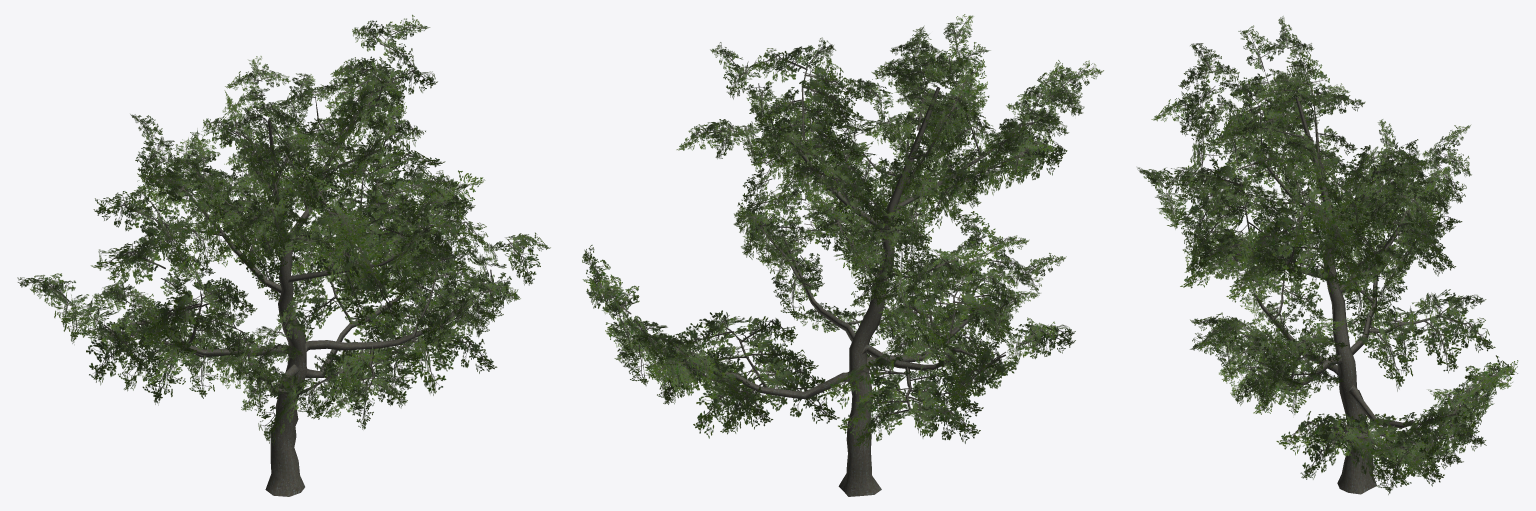
File: oak_big_1.glb
The picture shows the model from 3 angles, left to right: view 1: azimuth 30°, elevation 25°; view 2: azimuth 150°, elevation 25°; view 3: azimuth 270°, elevation 25°; orthographic projection. The views are drawn at different scales.
Visible parts, largest first — view 1: Big_oak_tree__001_LOD1_Cluster_Mat_0, Big_oak_tree__001_LOD1_Bark_Mat_0; view 2: Big_oak_tree__001_LOD1_Cluster_Mat_0, Big_oak_tree__001_LOD1_Bark_Mat_0; view 3: Big_oak_tree__001_LOD1_Cluster_Mat_0, Big_oak_tree__001_LOD1_Bark_Mat_0.
Part boxes in pixels (bbox=[...]): Big_oak_tree__001_LOD1_Cluster_Mat_0: bbox=[17, 14, 550, 444]; Big_oak_tree__001_LOD1_Bark_Mat_0: bbox=[130, 84, 471, 496]; Big_oak_tree__001_LOD1_Cluster_Mat_0: bbox=[582, 14, 1103, 448]; Big_oak_tree__001_LOD1_Bark_Mat_0: bbox=[665, 63, 1035, 496]; Big_oak_tree__001_LOD1_Cluster_Mat_0: bbox=[1137, 16, 1518, 494]; Big_oak_tree__001_LOD1_Bark_Mat_0: bbox=[1193, 71, 1481, 494].
Size of the model in its own units: 20.51 by 19.46 by 15.65.
Materials: 2 (2 with a texture image).
